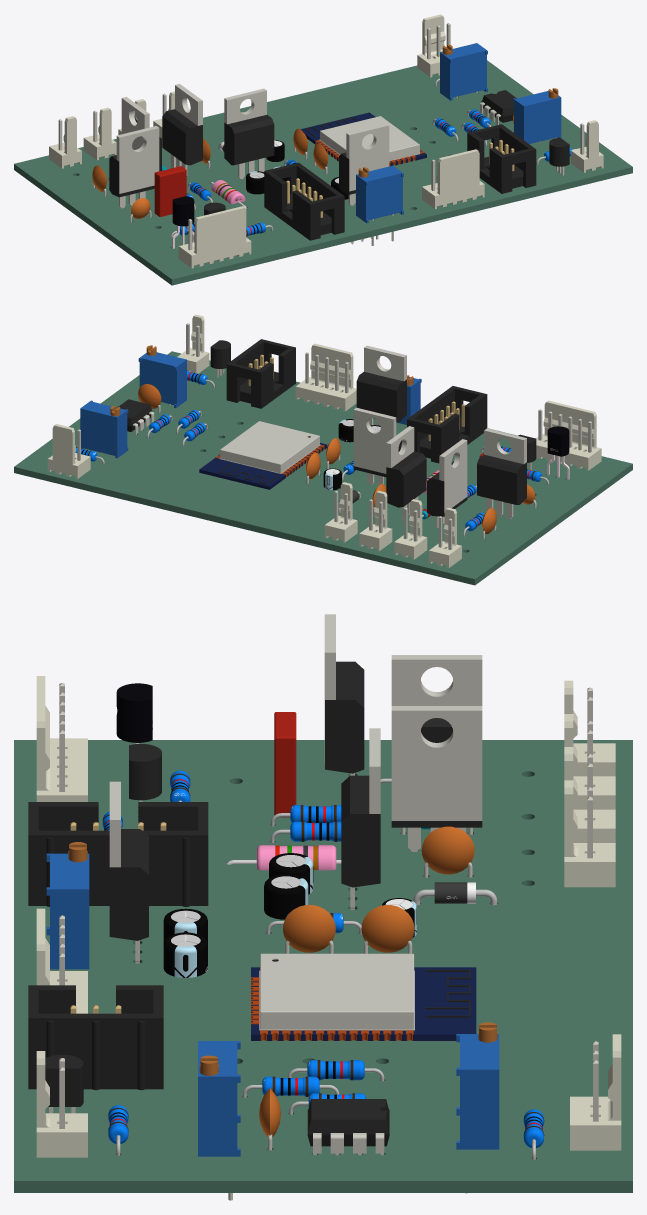
Rendered from board.glb.
3 renders of one model, top to bottom at view 1: azimuth 30°, elevation 25°; view 2: azimuth 150°, elevation 25°; view 3: azimuth 270°, elevation 25°, orthographic. The views are drawn at different scales.
Parts seen in each view (by area): view 1: =>[0:1:1:23], J8, U4, J7, J4, U3, U1, D2, J5, RV3, U5, RV2 (+12 smaller); view 2: =>[0:1:1:23], U1, J8, J7, U3, U5, J5, J4, D2, U4, Q3, RV2 (+12 smaller); view 3: =>[0:1:1:23], U1, J8, J7, D2, U5, U3, U4, RV2, RV1, Q3, RV3 (+27 smaller).
Part boxes in pixels (<box>): =>[0:1:1:23]: <box>14,60,632,285</box>; J8: <box>264,162,344,240</box>; U4: <box>224,88,274,179</box>; J7: <box>467,124,536,193</box>; J4: <box>178,206,251,268</box>; U3: <box>109,126,159,208</box>; U1: <box>300,112,426,166</box>; D2: <box>162,84,202,176</box>; J5: <box>422,149,484,209</box>; RV3: <box>356,165,403,245</box>; U5: <box>339,123,389,244</box>; RV2: <box>440,43,487,100</box>; =>[0:1:1:23]: <box>14,351,632,585</box>; U1: <box>199,421,327,489</box>; J8: <box>407,386,487,463</box>; J7: <box>226,339,295,408</box>; U3: <box>477,428,526,518</box>; U5: <box>356,345,406,425</box>; J5: <box>295,343,356,411</box>; J4: <box>536,400,601,470</box>; D2: <box>386,426,426,519</box>; U4: <box>353,407,401,485</box>; Q3: <box>427,439,467,527</box>; RV2: <box>80,400,128,458</box>; =>[0:1:1:23]: <box>14,740,632,1192</box>; U1: <box>251,953,476,1040</box>; J8: <box>28,802,208,906</box>; J7: <box>28,985,163,1090</box>; D2: <box>391,706,482,851</box>; U5: <box>109,781,148,963</box>; U3: <box>324,614,364,775</box>; U4: <box>341,728,380,909</box>; RV2: <box>456,1022,499,1193</box>; RV1: <box>198,1041,240,1200</box>; Q3: <box>391,655,482,742</box>; RV3: <box>46,842,89,969</box>.
Bounding box in the file's own units: 0.118 × 0.0285 × 0.07.
